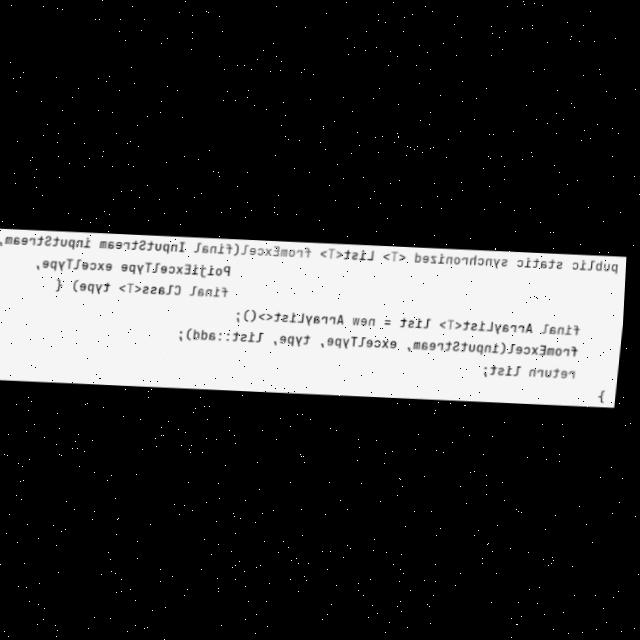code_screen: (0, 228, 626, 406)
